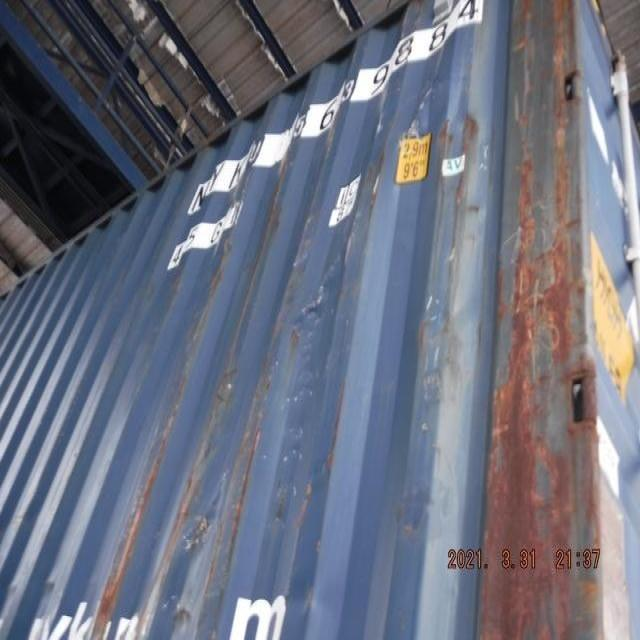dent: (321, 61, 453, 277), (169, 467, 231, 640)
